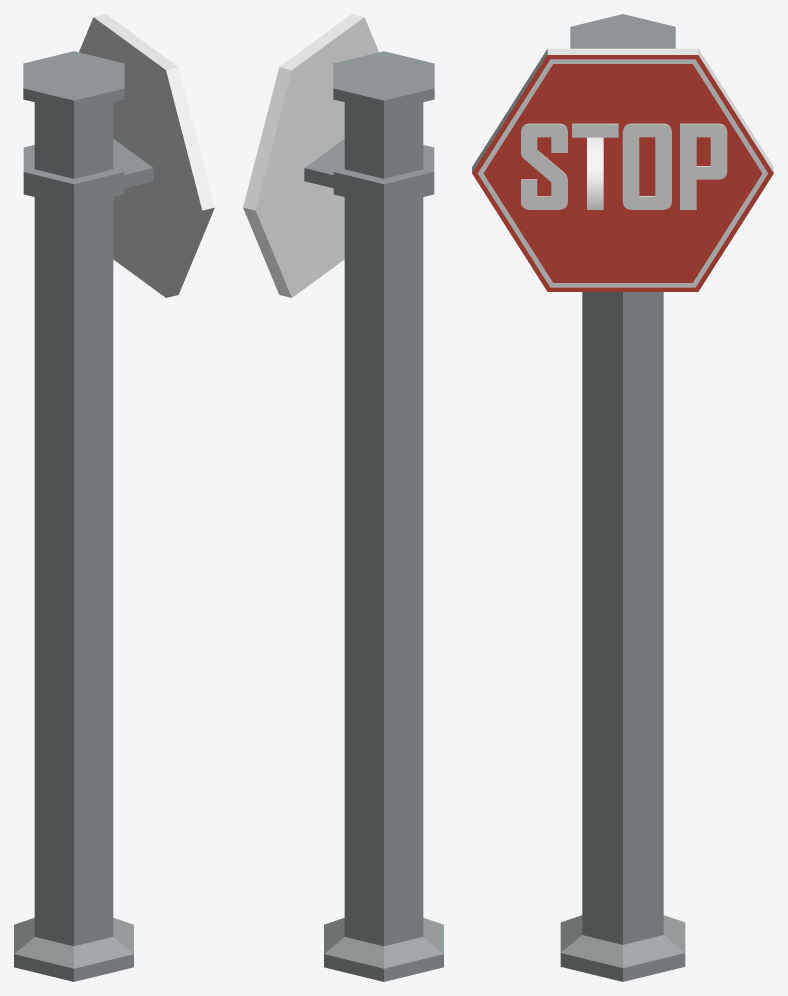
Rendered from stop.fbx.
3 views of the same model, side by side, from view 1: azimuth 30°, elevation 25°; view 2: azimuth 150°, elevation 25°; view 3: azimuth 270°, elevation 25° (orthographic). The views are drawn at different scales.
Parts seen in each view (by area): view 1: Cube.009; view 2: Cube.009; view 3: Cube.009.
Part boxes in pixels (<box>): Cube.009: <box>14,14,214,981</box>; Cube.009: <box>243,14,443,981</box>; Cube.009: <box>472,14,773,981</box>.
Size of the model in its own units: 9.95 by 65.68 by 19.3.
